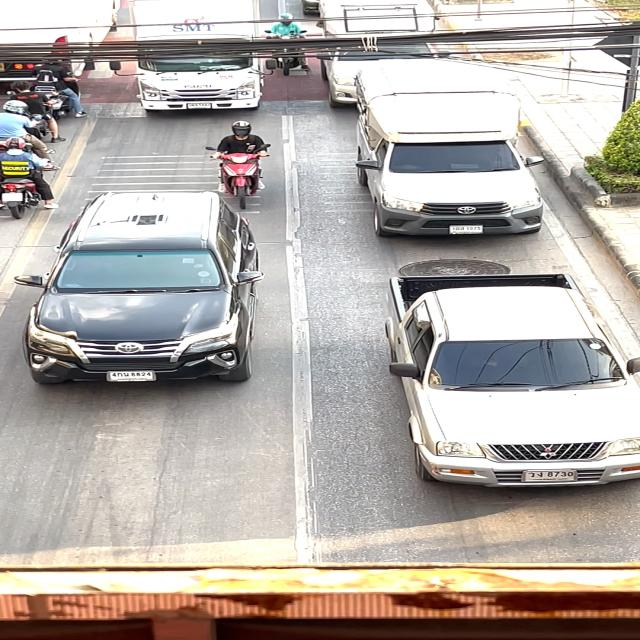car: (374, 257, 640, 490), (12, 186, 272, 400), (341, 61, 537, 244), (125, 0, 281, 118), (303, 0, 442, 111)
